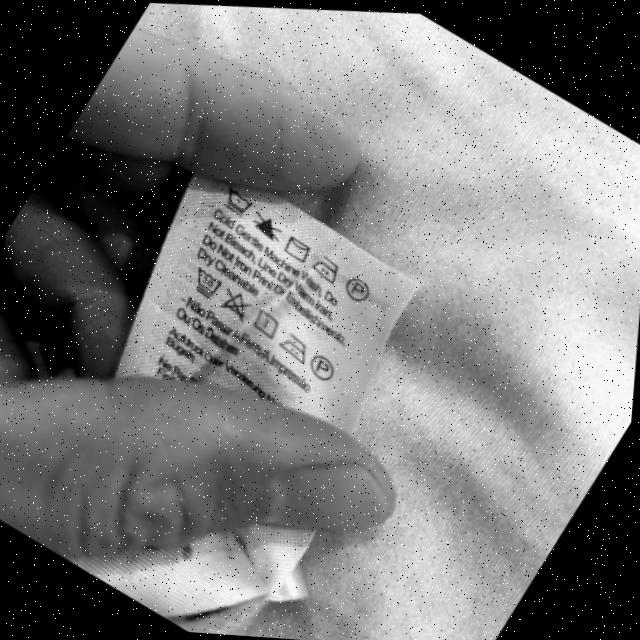ER_dry_clean_chemical: (342, 272, 373, 307), (311, 352, 335, 385)
ER_flat_dry: (253, 305, 279, 340)
ER_iron_medium_temp: (279, 327, 308, 366), (313, 252, 341, 285)
ER_no_bleach: (252, 207, 283, 243), (221, 288, 249, 325)
ER_wash_30_mild: (192, 267, 223, 303)
